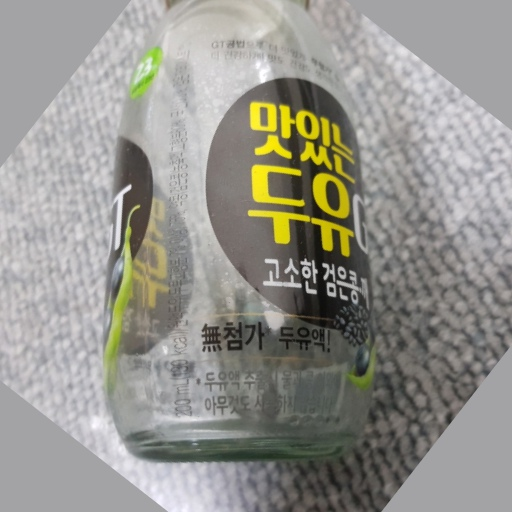Glass_4: (103, 1, 372, 461)
